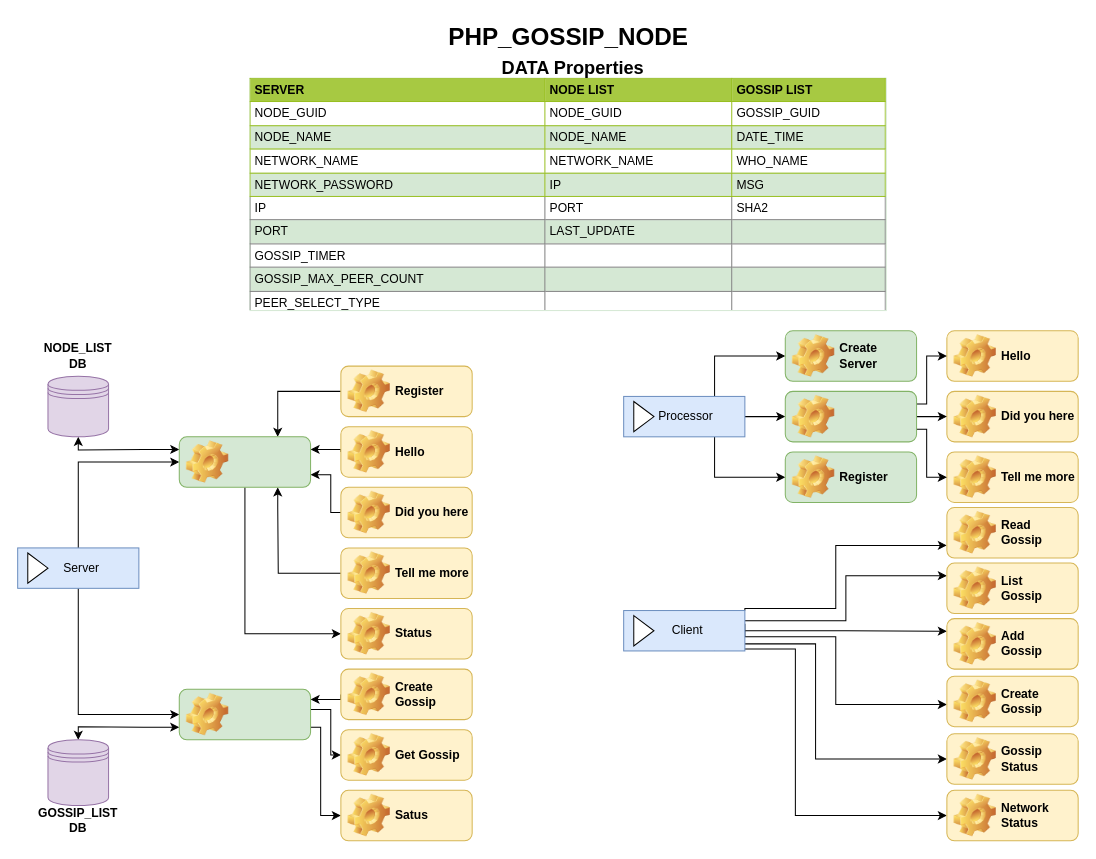
Some shapes in this 1096 by 859 pixel diagram are drawn without their labels. The shapes that lost their labels are listed below. From the top down, each one's centre as x and y in pixels, then its label:
point (850, 416): Start Process
point (244, 461): Network API Endpoint
point (244, 714): Gossip API Endpoint
